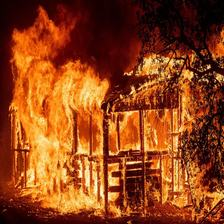fire: (9, 12, 220, 220)
